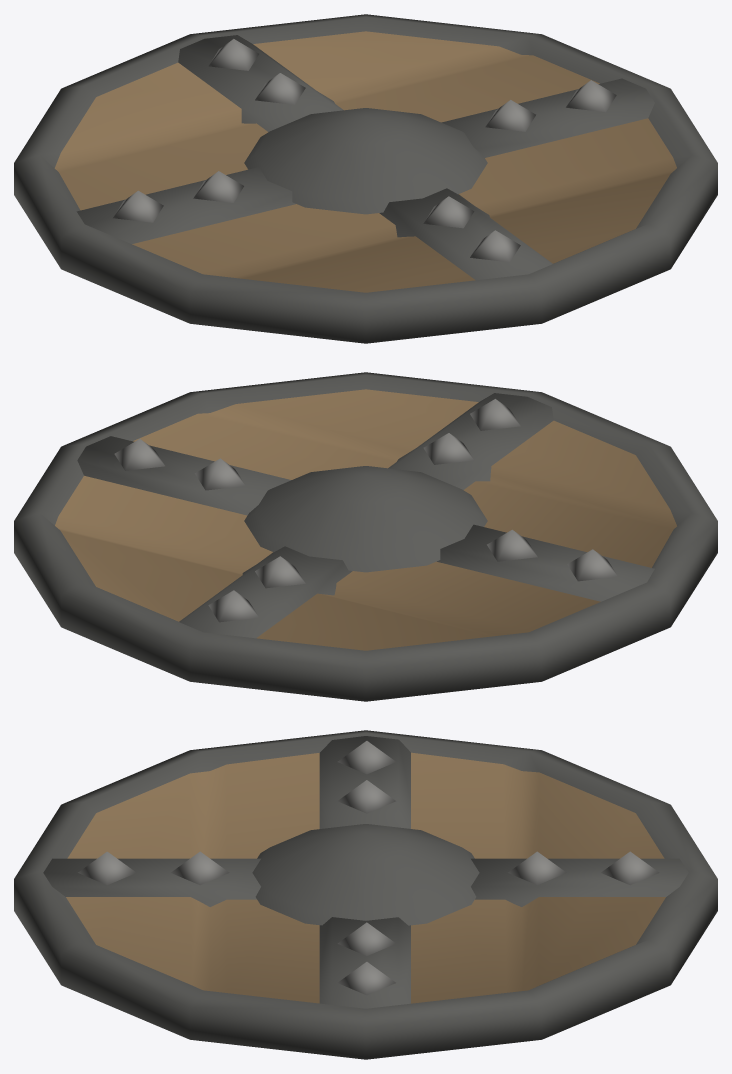
Rendered from rpgpp_ag_shield_01.fbx.
The picture shows the model from 3 angles, top to bottom: view 1: azimuth 30°, elevation 25°; view 2: azimuth 150°, elevation 25°; view 3: azimuth 270°, elevation 25°; orthographic projection.
Visible parts, largest first — view 1: rpgpp_ag_shield_01; view 2: rpgpp_ag_shield_01; view 3: rpgpp_ag_shield_01.
Boxes of the visible parts, box(x1,y1,x2,y2) form: rpgpp_ag_shield_01: box(14, 14, 717, 343); rpgpp_ag_shield_01: box(14, 372, 717, 701); rpgpp_ag_shield_01: box(14, 730, 717, 1059).
Size of the model in its own units: 1 by 0.1976 by 1.
